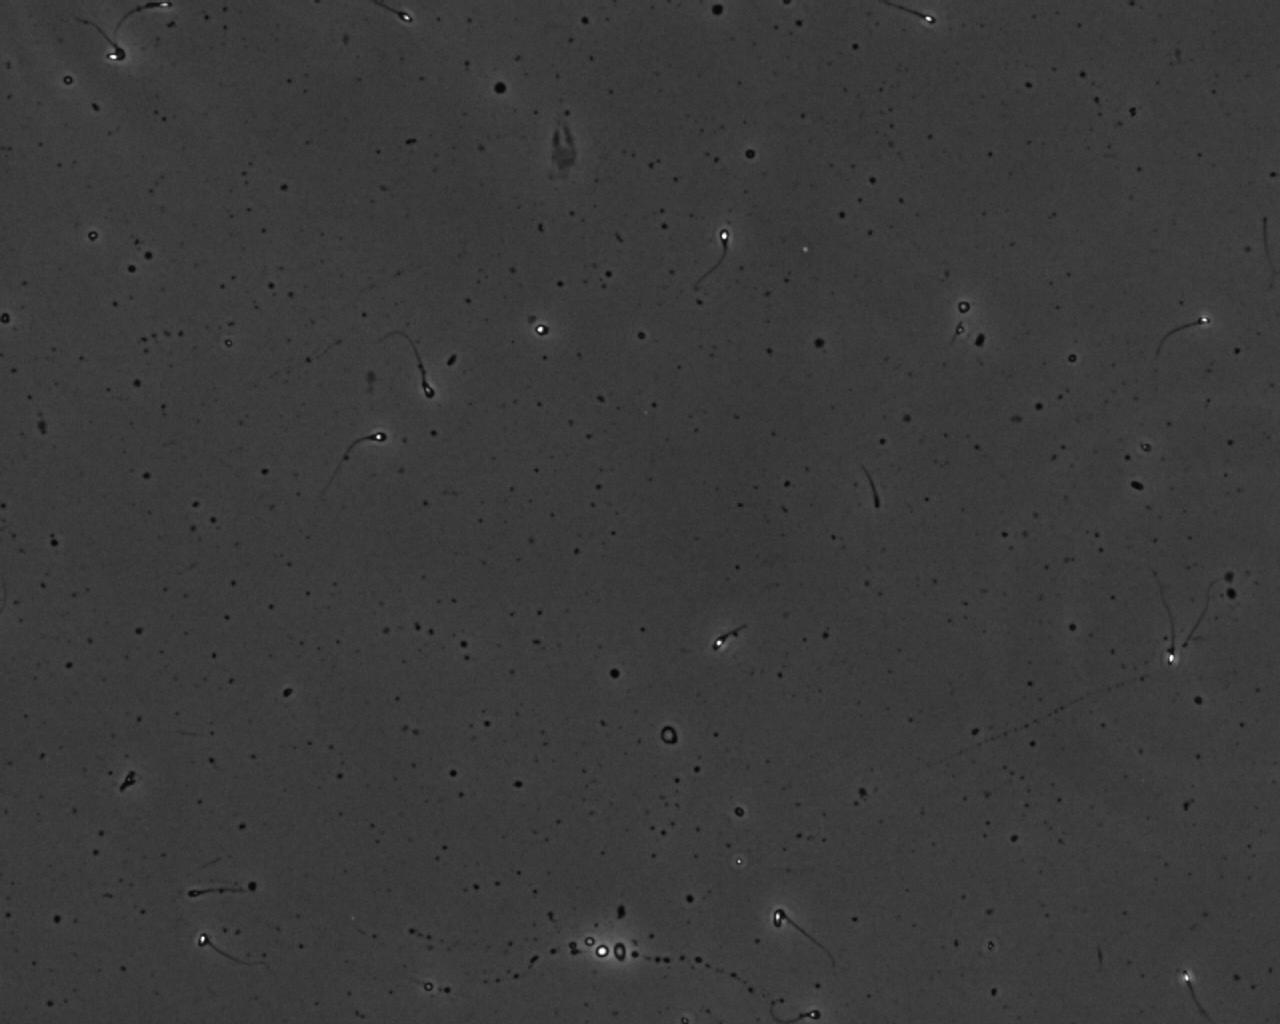cell: (571, 917, 610, 962), (594, 949, 625, 990), (597, 925, 635, 951), (657, 723, 681, 748)
